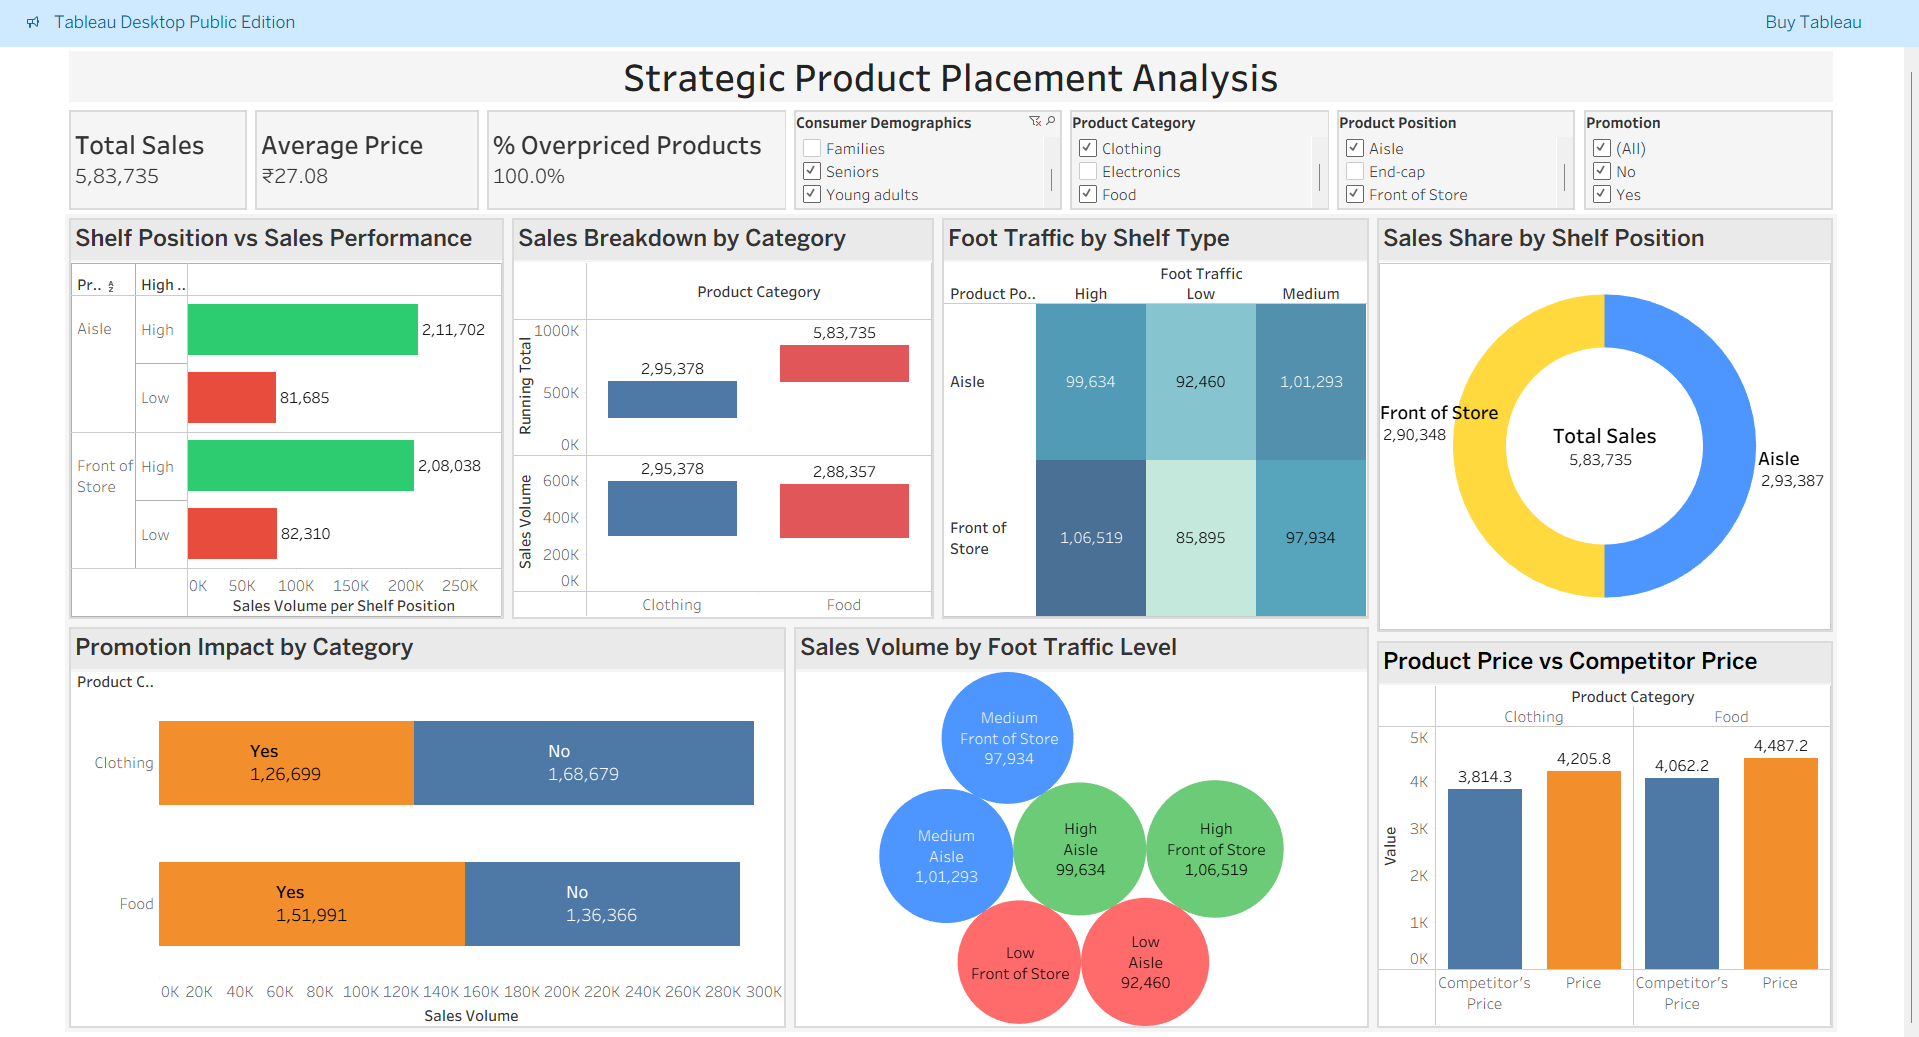

What the dashboard file says about the page in this screenshot:
{"tool":"tableau","page":{"name":"Final Dashboard","canvas":[1000,1000],"units":"permille","ordinal":1},"visuals":[{"type":"title","box":[4.5,8,990.9,58.9]},{"type":"worksheet","title":"KPI - Total Sales","mark":"Automatic","box":[4.5,66.9,103.9,108.3]},{"type":"worksheet","title":"KPI - Avg Price","mark":"Automatic","box":[108.4,66.9,129.7,108.3]},{"type":"worksheet","title":"KPI - % Overpriced","mark":"Automatic","box":[238.1,66.9,172,108.3]},{"type":"filter","title":"Stacked – Promo vs Category","param":"[federated.18poy891srbnem0zwz0km05bux29].[none:Consumer Demographics:nk]","box":[410.1,66.9,154.2,108.3]},{"type":"filter","title":"Stacked – Promo vs Category","param":"[federated.18poy891srbnem0zwz0km05bux29].[none:Product Category:nk]","box":[564.2,66.9,149.6,108.3]},{"type":"filter","title":"Stacked – Promo vs Category","param":"[federated.18poy891srbnem0zwz0km05bux29].[none:Product Position:nk]","box":[713.8,66.9,137.7,108.3]},{"type":"filter","title":"High Sales by Position","param":"[federated.18poy891srbnem0zwz0km05bux29].[none:Promotion:nk]","box":[851.5,66.9,144,108.3]},{"type":"worksheet","title":"High Sales by Position","mark":"Automatic","rows":["Product Position","Calculation_654710819799613442"],"cols":["Sales Volume"],"box":[4.5,175.2,247.7,408.4]},{"type":"worksheet","title":"Waterfall – Sales Breakdown","mark":"GanttBar","rows":["Calculation_654710819823284230","Sales Volume"],"cols":["Product Category"],"box":[252.2,175.2,240.4,408.4]},{"type":"worksheet","title":"Highlight – Shelf vs Foot Traffic","mark":"Square","rows":["Product Position"],"cols":["Foot Traffic"],"box":[492.6,175.2,243.4,408.4]},{"type":"worksheet","title":"Donut","mark":"Pie","rows":["Calculation_654710819801415683","Calculation_654710819801415683"],"box":[736,175.2,259.4,421.9]},{"type":"worksheet","title":"Stacked – Promo vs Category","mark":"Automatic","rows":["Product Category"],"cols":["Sales Volume"],"box":[4.5,583.6,405.6,408.4]},{"type":"worksheet","title":"Bubble – Price vs Sales","mark":"Circle","box":[410.1,583.6,325.9,408.4]},{"type":"worksheet","title":"side by side bars","mark":"Automatic","cols":["Product Category"],"box":[736,597.1,259.4,394.9]}]}

Visuals, with their boxes on the dashboard's canvas, which has no fixed pixel size, in thousandths of its width and height (x1, y1, x2, y2). These are canvas units, not pixel positions in the 1919x1037 screenshot, which may show the page scaled, cropped or inside an application window:
title: [left=4, top=8, right=995, bottom=67]
"KPI - Total Sales" worksheet: [left=4, top=67, right=108, bottom=175]
"KPI - Avg Price" worksheet: [left=108, top=67, right=238, bottom=175]
"KPI - % Overpriced" worksheet: [left=238, top=67, right=410, bottom=175]
"Stacked – Promo vs Category" filter: [left=410, top=67, right=564, bottom=175]
"Stacked – Promo vs Category" filter: [left=564, top=67, right=714, bottom=175]
"Stacked – Promo vs Category" filter: [left=714, top=67, right=852, bottom=175]
"High Sales by Position" filter: [left=852, top=67, right=996, bottom=175]
"High Sales by Position" worksheet: [left=4, top=175, right=252, bottom=584]
"Waterfall – Sales Breakdown" worksheet (GanttBar marks): [left=252, top=175, right=493, bottom=584]
"Highlight – Shelf vs Foot Traffic" worksheet (Square marks): [left=493, top=175, right=736, bottom=584]
"Donut" worksheet (Pie marks): [left=736, top=175, right=995, bottom=597]
"Stacked – Promo vs Category" worksheet: [left=4, top=584, right=410, bottom=992]
"Bubble – Price vs Sales" worksheet (Circle marks): [left=410, top=584, right=736, bottom=992]
"side by side bars" worksheet: [left=736, top=597, right=995, bottom=992]
